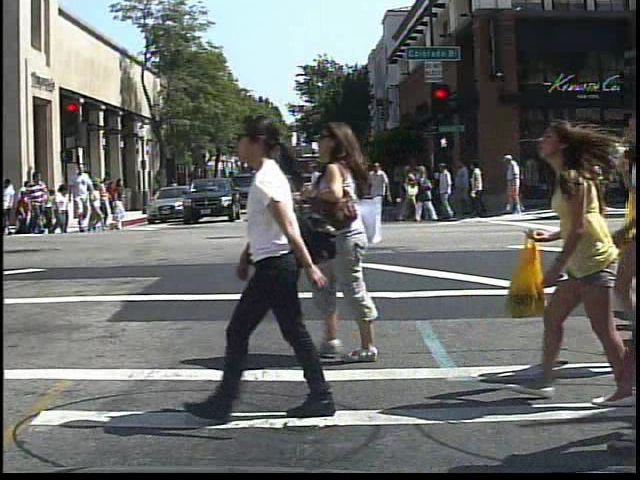person: (216, 106, 338, 425), (530, 102, 635, 403), (305, 119, 389, 364), (66, 161, 94, 234), (22, 171, 48, 238), (500, 151, 525, 217), (2, 173, 21, 238), (106, 175, 126, 214), (165, 174, 183, 210)
